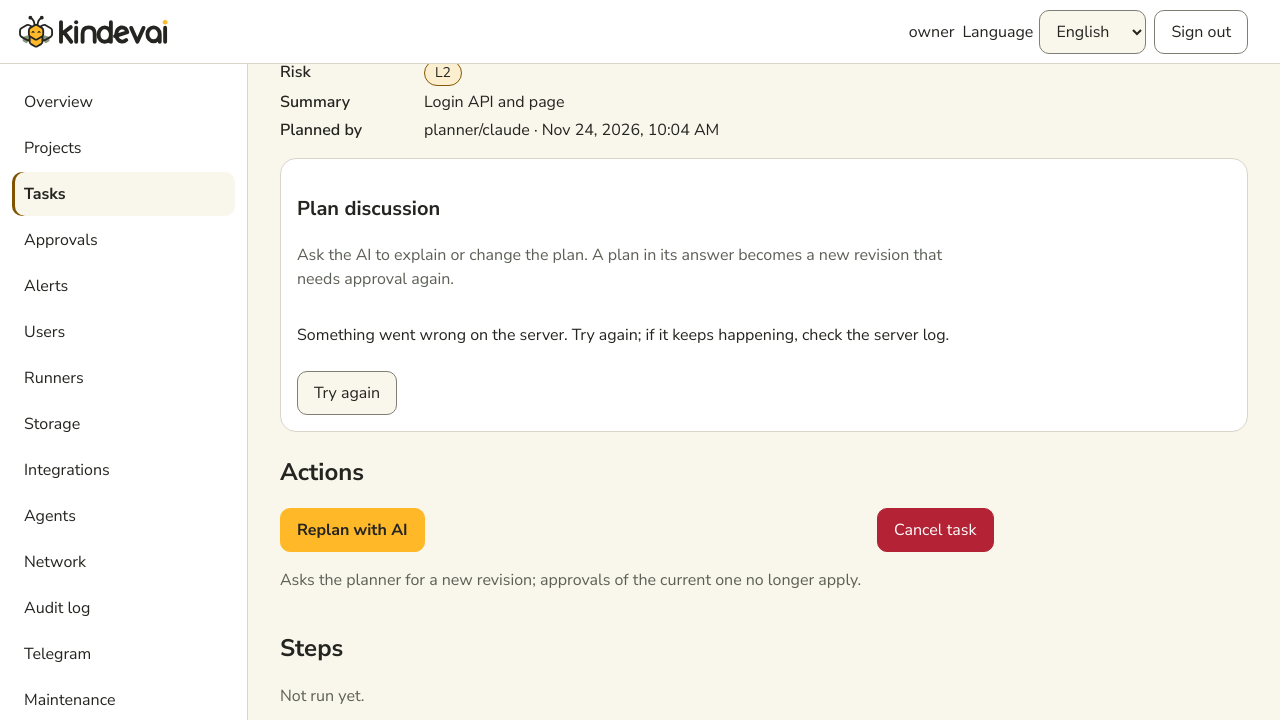
Test: plan discussion on the task page › shows an error with a retry when the thread cannot be loaded
(page scrolled)
Check: the message is shown, box [297,323,949,347]
Step 1. Click the button "Try again" → point(347, 393), box [297,371,397,415]
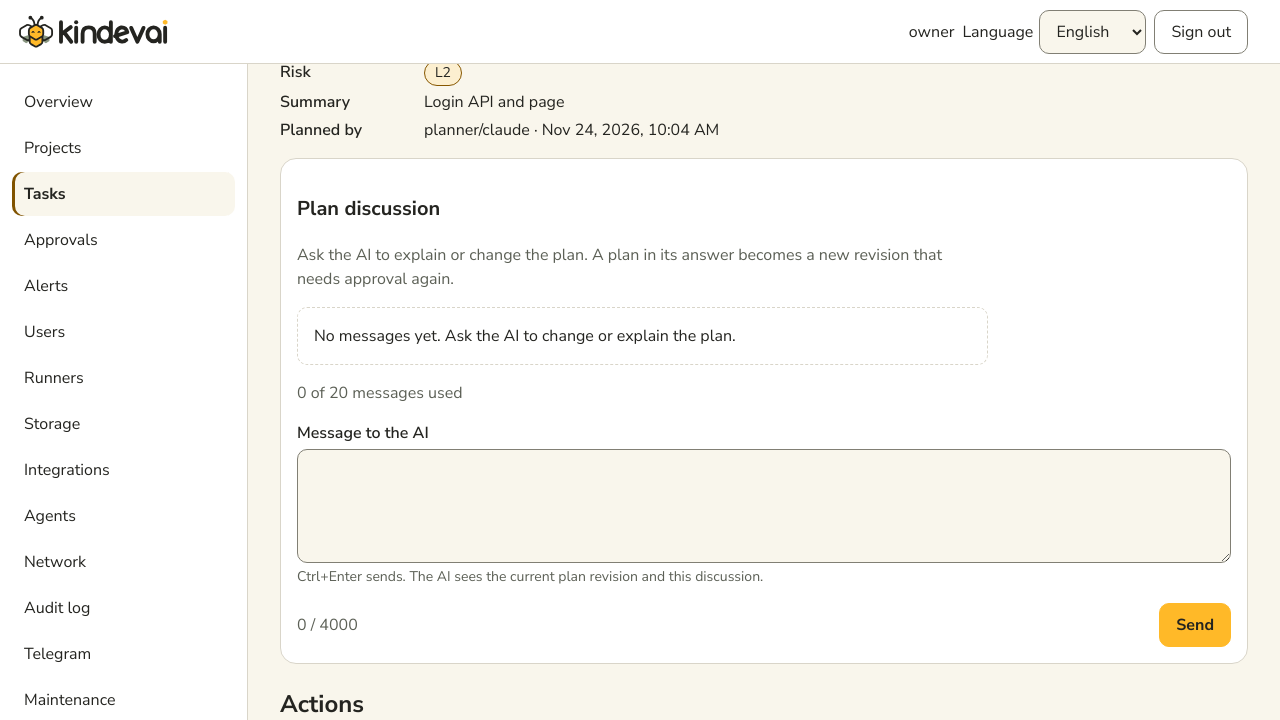
Check: the text box labelled "Message to the AI" is shown, box [297,449,1231,563]
